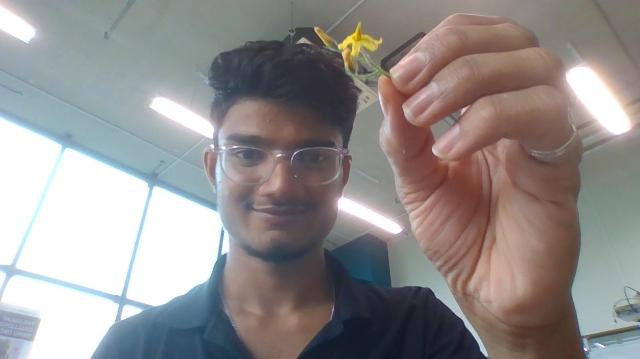Anthesis: (338, 21, 383, 58), (314, 26, 340, 51), (341, 45, 356, 75)
